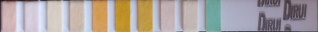color 1: (2, 3, 14, 30)
color 10: (207, 1, 219, 32)
color 2: (25, 4, 37, 29)
color 3: (48, 4, 60, 30)
color 4: (70, 3, 82, 29)
color 5: (94, 3, 105, 30)
color 6: (117, 2, 128, 32)
color 7: (139, 2, 151, 32)
color 8: (162, 3, 173, 32)
color 9: (184, 1, 196, 32)
